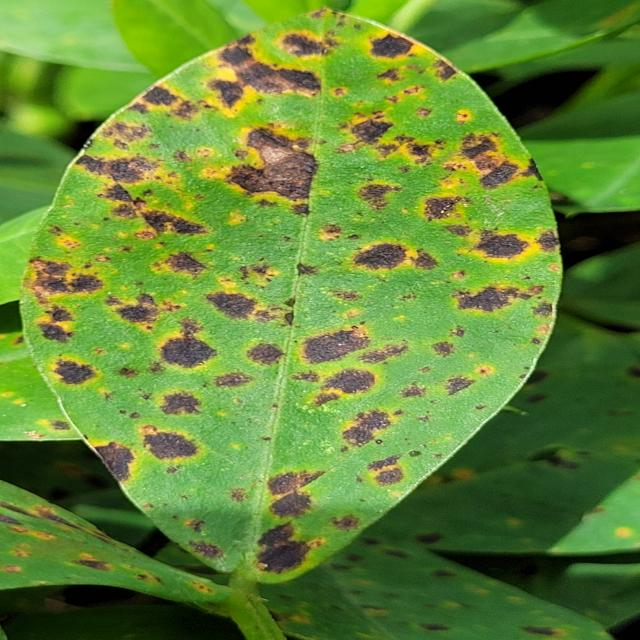Ground nut_tikka leaf spot: (21, 10, 560, 581)
